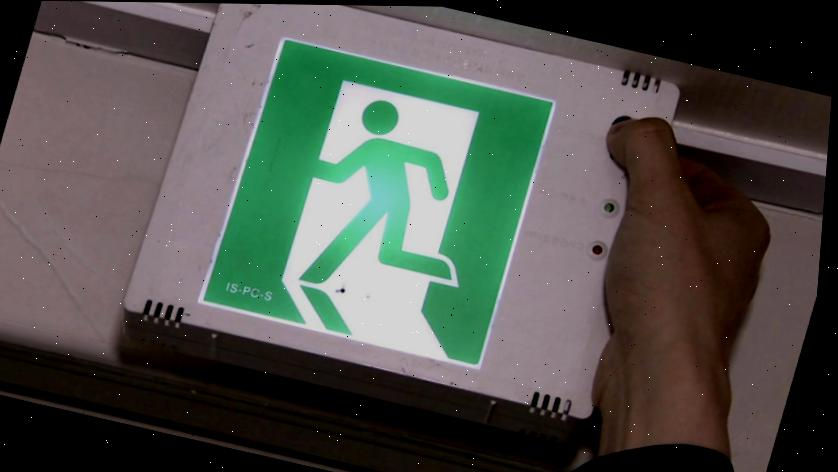emergency_exit: (118, 6, 683, 438), (196, 36, 558, 372)
